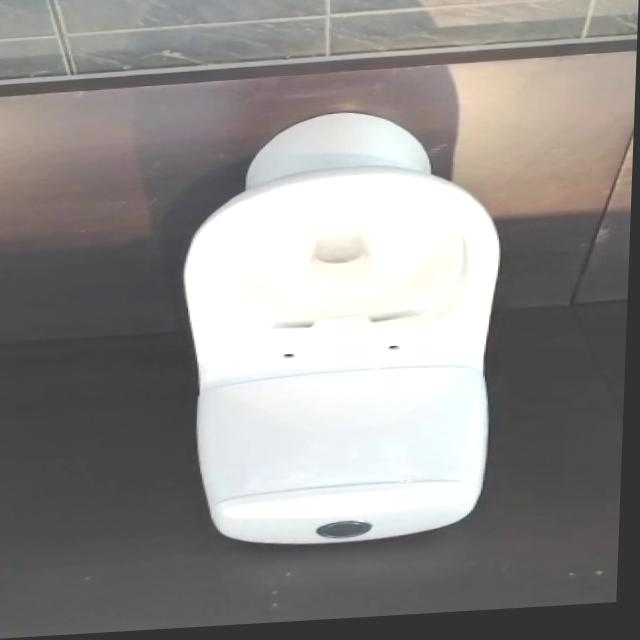toilet: (178, 109, 509, 556)
